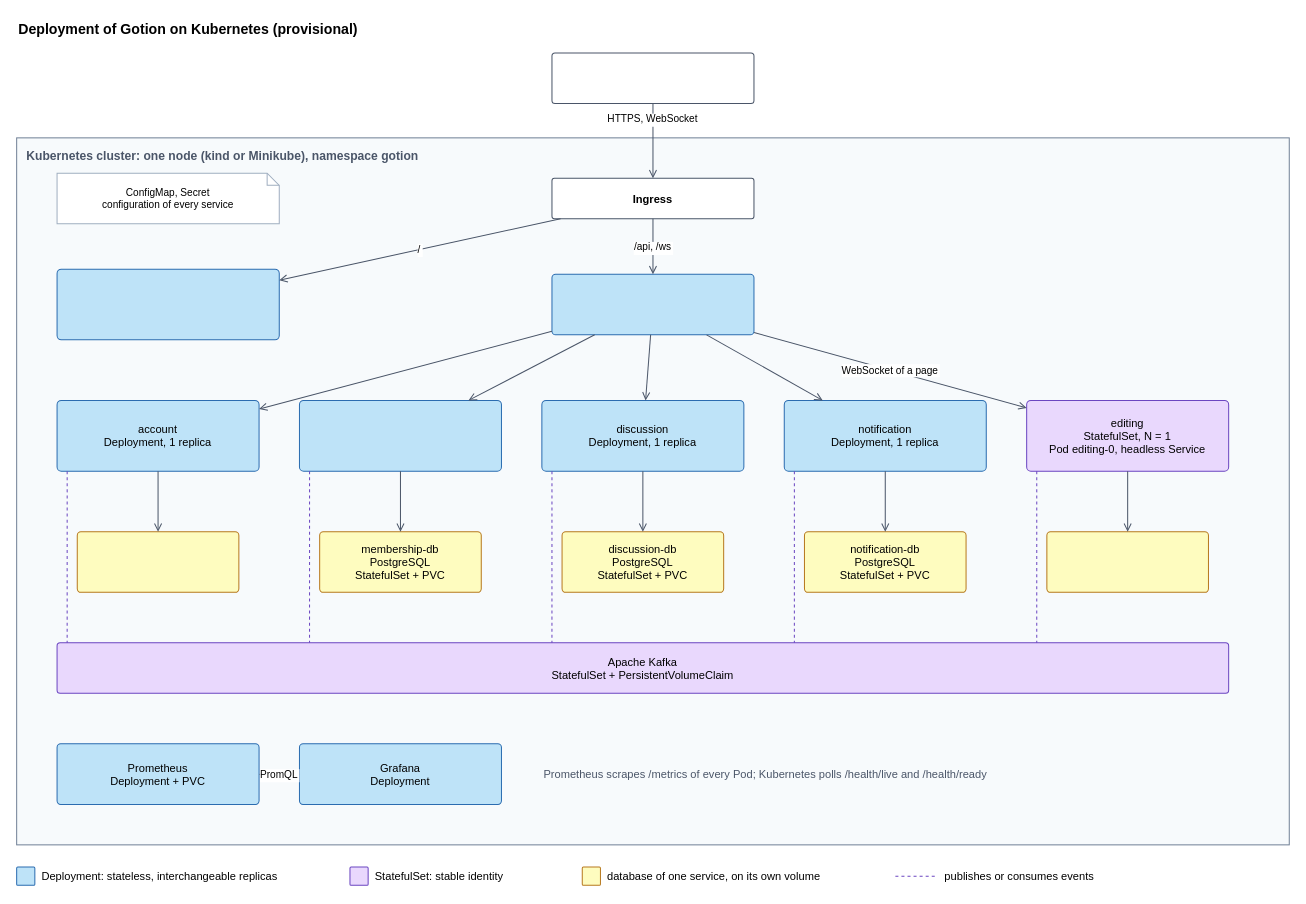
Image size: 1306x904. Some labels were removed from this diagram. Each missing label, with the centre of its shape:
"account-db PostgreSQL StatefulSet + PVC" goes at point 157,561.
"Browser web client (React)" goes at point 652,78.
"editing-db PostgreSQL StatefulSet + PVC" goes at point 1127,561.
"gateway Deployment, 1 replica" goes at point 652,304.
"membership Deployment, 1 replica" goes at point 399,435.
"web Deployment, 1 replica static files of the client" goes at point 167,304.
